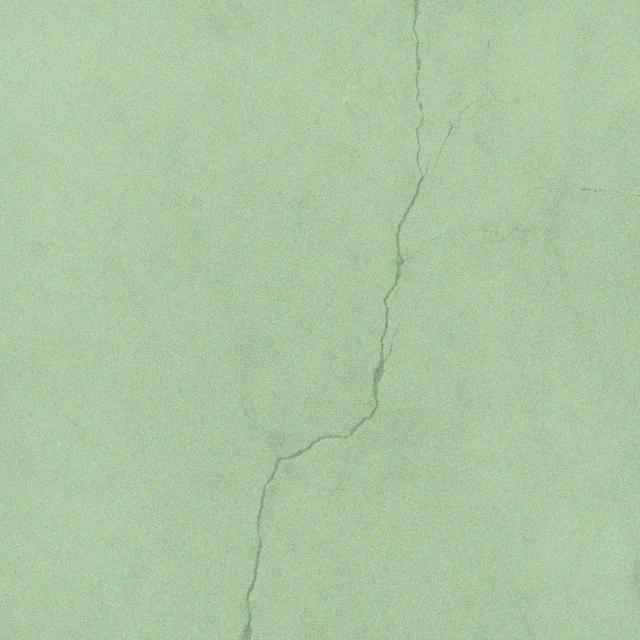crack: (240, 0, 558, 640), (540, 174, 640, 200)
